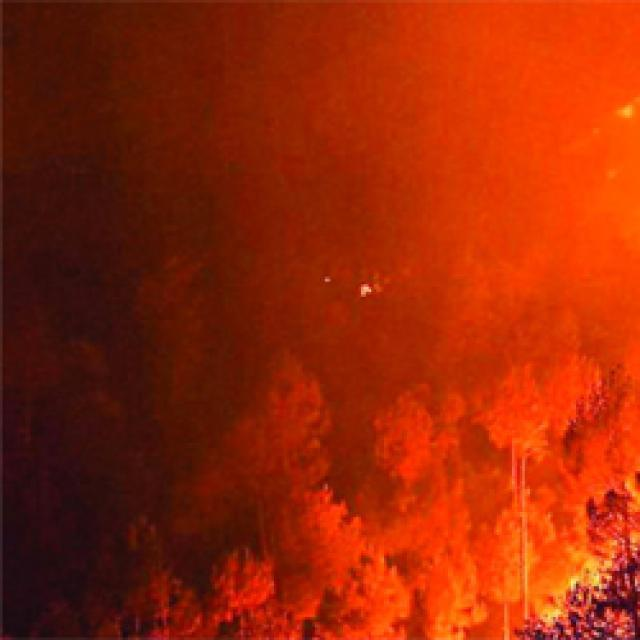Fire: (533, 542, 626, 638), (599, 92, 640, 119), (351, 277, 383, 300)
Smoke: (102, 0, 640, 387)
